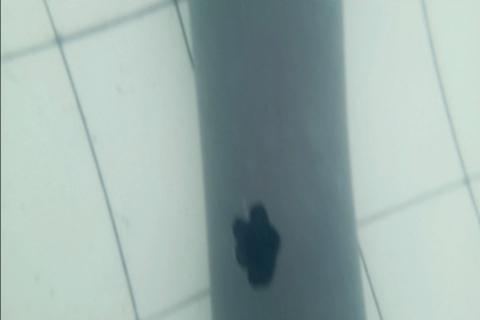kebocoran: (231, 200, 283, 291)
